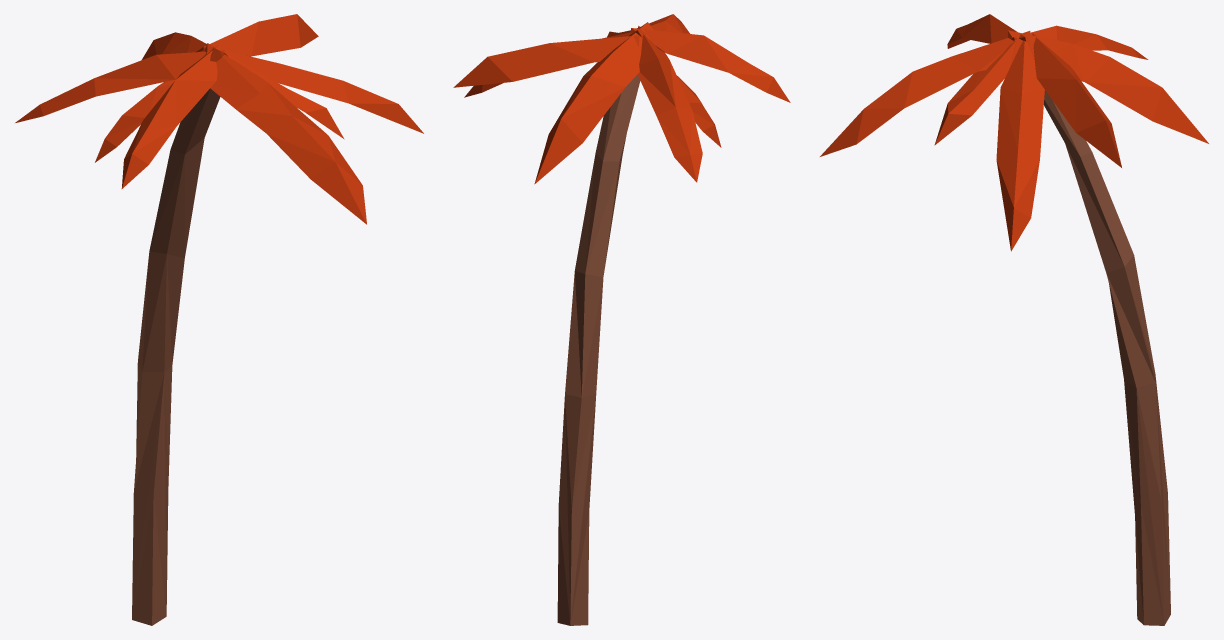
Rendered from Tree_09_summer_red_mat.fbx.
The picture shows the model from 3 angles, left to right: view 1: azimuth 30°, elevation 25°; view 2: azimuth 150°, elevation 25°; view 3: azimuth 270°, elevation 25°; orthographic projection. The views are drawn at different scales.
Visible parts, largest first — view 1: Tree_09_summer_red_mat; view 2: Tree_09_summer_red_mat; view 3: Tree_09_summer_red_mat.
Boxes of the visible parts, x1,y1,x2,y2 form: Tree_09_summer_red_mat: (15, 14, 423, 625); Tree_09_summer_red_mat: (453, 14, 790, 625); Tree_09_summer_red_mat: (820, 14, 1208, 625).
Size of the model in its own units: 128 by 228 by 137.
